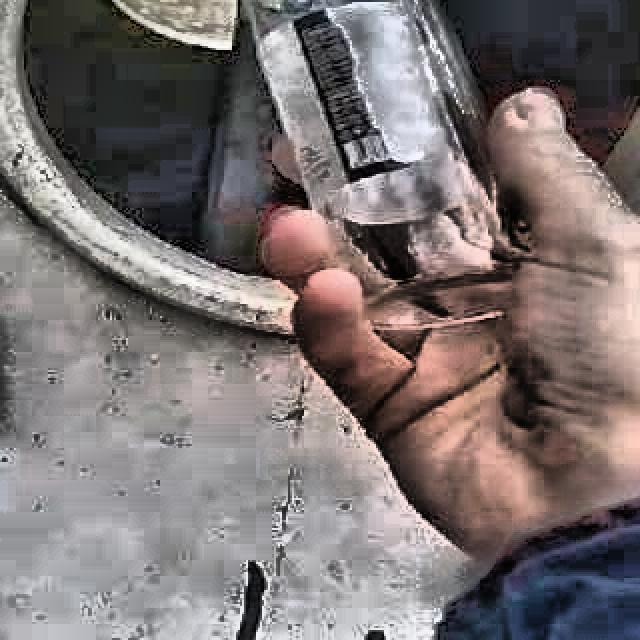glass: (244, 0, 517, 329)
